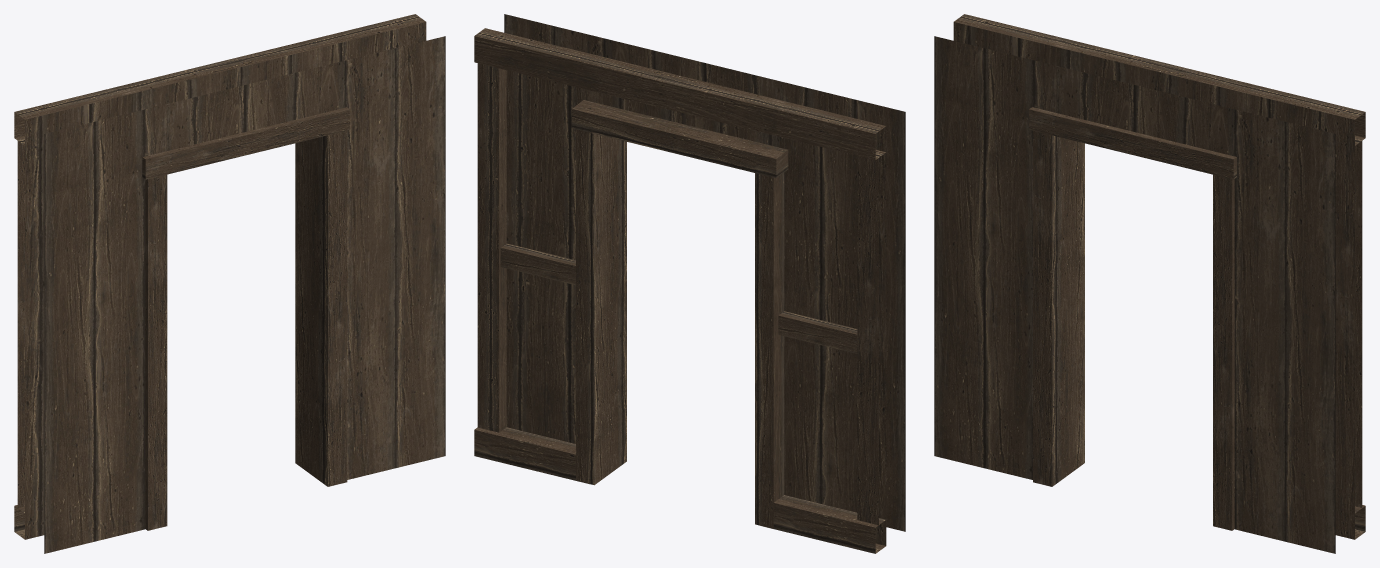
File: ARC1010272.fbx
The picture shows the model from 3 angles, left to right: view 1: azimuth 30°, elevation 25°; view 2: azimuth 150°, elevation 25°; view 3: azimuth 330°, elevation 25°; orthographic projection.
Visible parts, largest first — view 1: smARC1010272; view 2: smARC1010272; view 3: smARC1010272.
Part boxes in pixels (bbox=[...]): smARC1010272: bbox=[14, 14, 445, 553]; smARC1010272: bbox=[474, 14, 905, 553]; smARC1010272: bbox=[934, 14, 1365, 553].
Size of the model in its own units: 268 by 268 by 40.27.
1 material, 1 textured.
